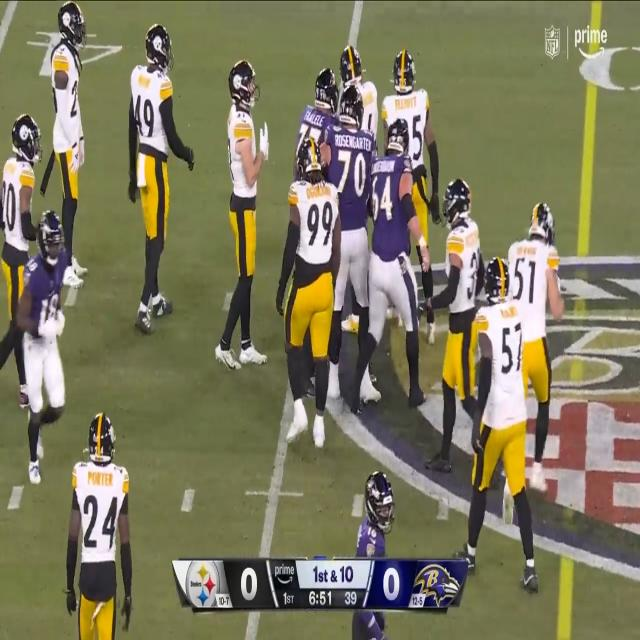Player: (474, 246, 537, 576), (364, 123, 430, 413), (124, 20, 185, 331), (384, 45, 444, 350), (218, 52, 272, 373), (63, 406, 137, 640), (20, 212, 80, 495), (282, 130, 335, 448), (506, 199, 560, 502), (436, 172, 482, 474), (42, 0, 90, 289), (2, 104, 44, 429), (335, 80, 371, 398), (352, 457, 393, 640), (296, 52, 338, 154), (342, 44, 377, 124)
